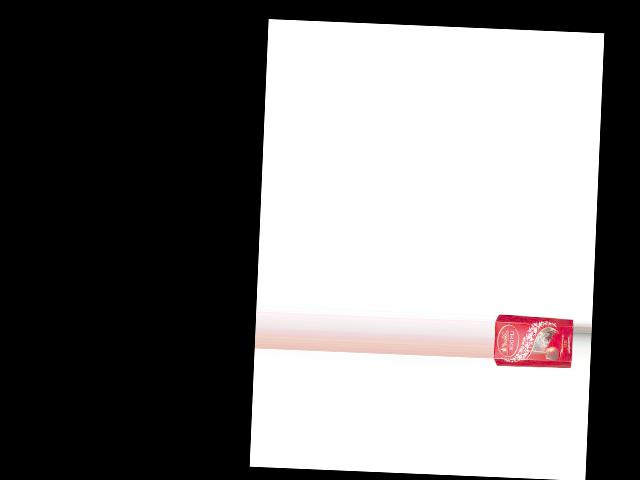chocolate: (493, 313, 574, 372)
